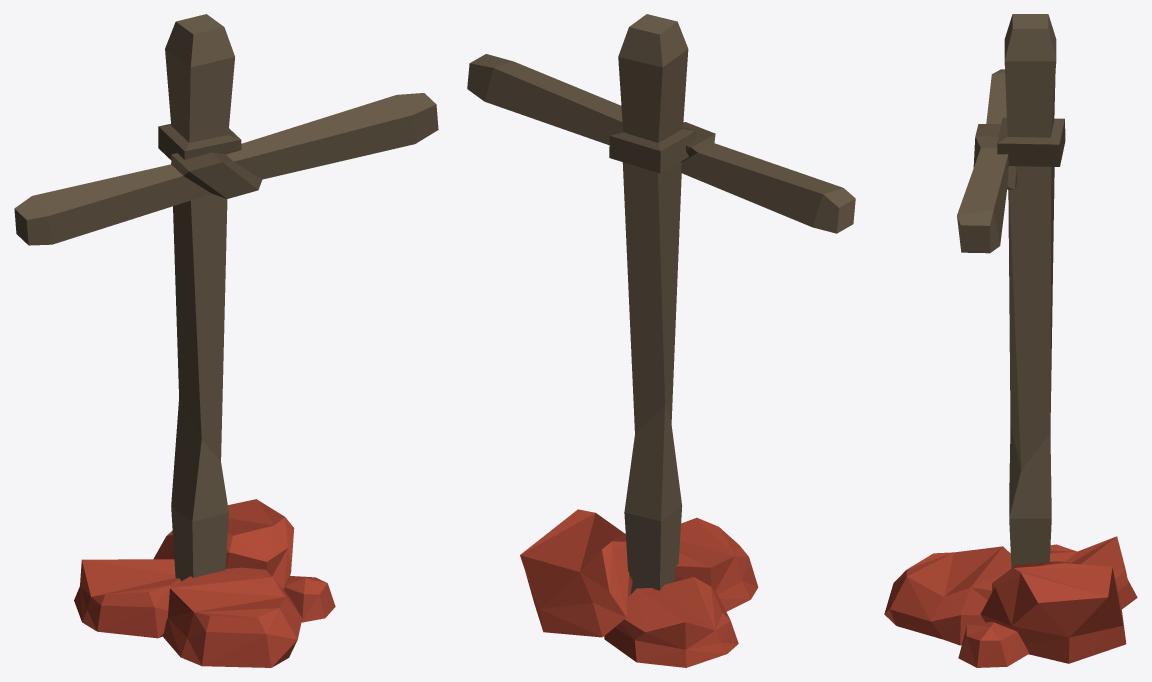
File: synty-prop-grave-03.gltf
3 views of the same model, side by side, from view 1: azimuth 30°, elevation 25°; view 2: azimuth 150°, elevation 25°; view 3: azimuth 270°, elevation 25° (orthographic).
Visible parts, largest first — view 1: SM_Prop_Grave_03; view 2: SM_Prop_Grave_03; view 3: SM_Prop_Grave_03.
Boxes of the visible parts, x1,y1,x2,y2 form: SM_Prop_Grave_03: (14,14,438,667); SM_Prop_Grave_03: (467,14,855,667); SM_Prop_Grave_03: (884,14,1137,667).
Size of the model in its own units: 0.7489 by 1.07 by 0.4145.
1 material, 1 textured.
